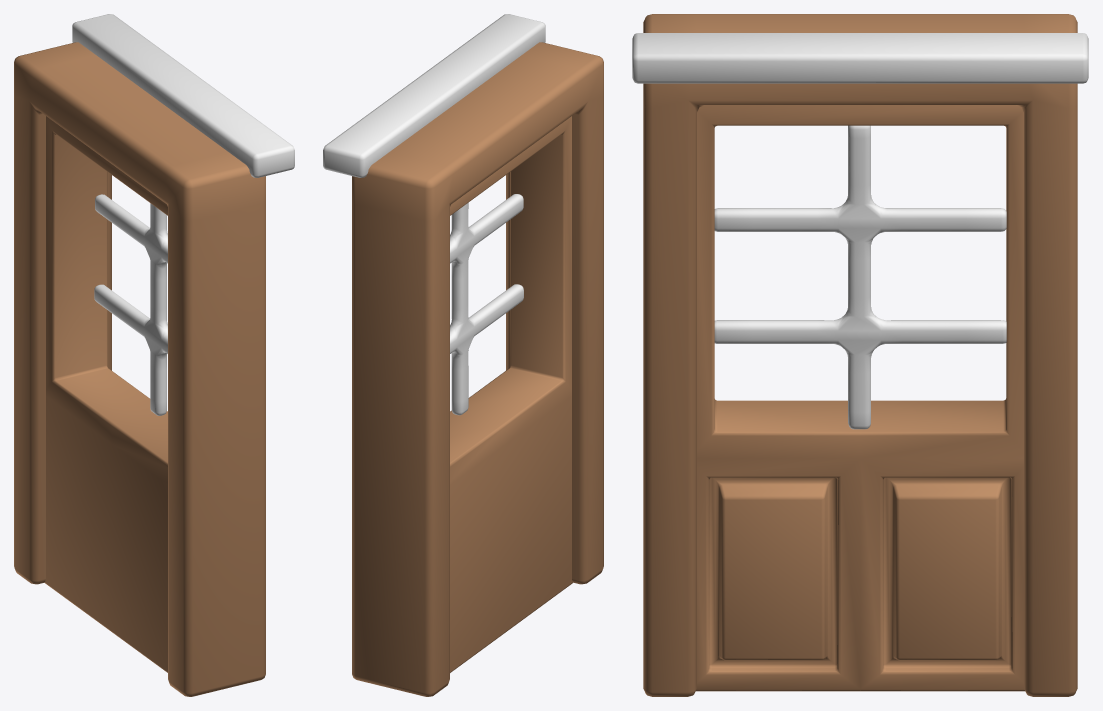
Rendered from doorframe_door_seperate.fbx.
3 views of the same model, side by side, from view 1: azimuth 30°, elevation 25°; view 2: azimuth 150°, elevation 25°; view 3: azimuth 270°, elevation 25° (orthographic). The views are drawn at different scales.
Visible parts, largest first — view 1: doorframe, door; view 2: doorframe, door; view 3: door, doorframe.
Boxes of the visible parts, x1,y1,x2,y2 form: doorframe: [14, 14, 294, 696]; door: [44, 116, 167, 672]; doorframe: [323, 14, 603, 696]; door: [450, 116, 572, 672]; door: [696, 105, 1024, 691]; doorframe: [632, 14, 1088, 696].
Size of the model in its own units: 35.08 by 169 by 106.
